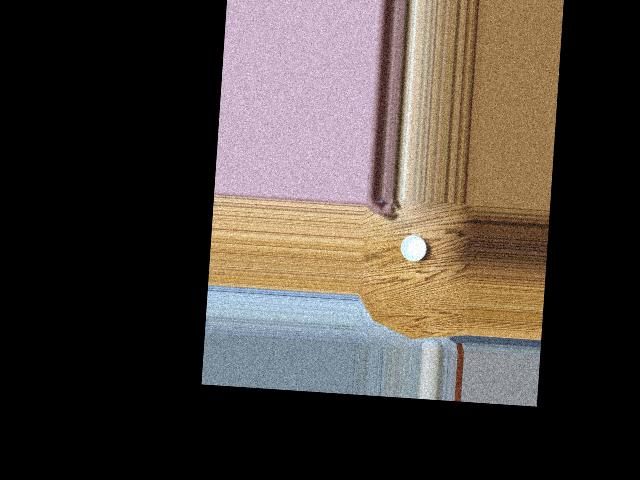cotage: (397, 232, 427, 264)
